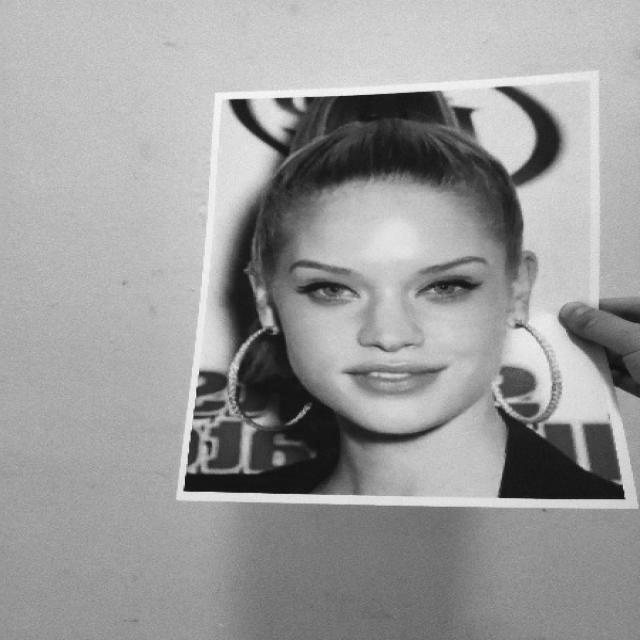fake: (220, 100, 552, 446)
